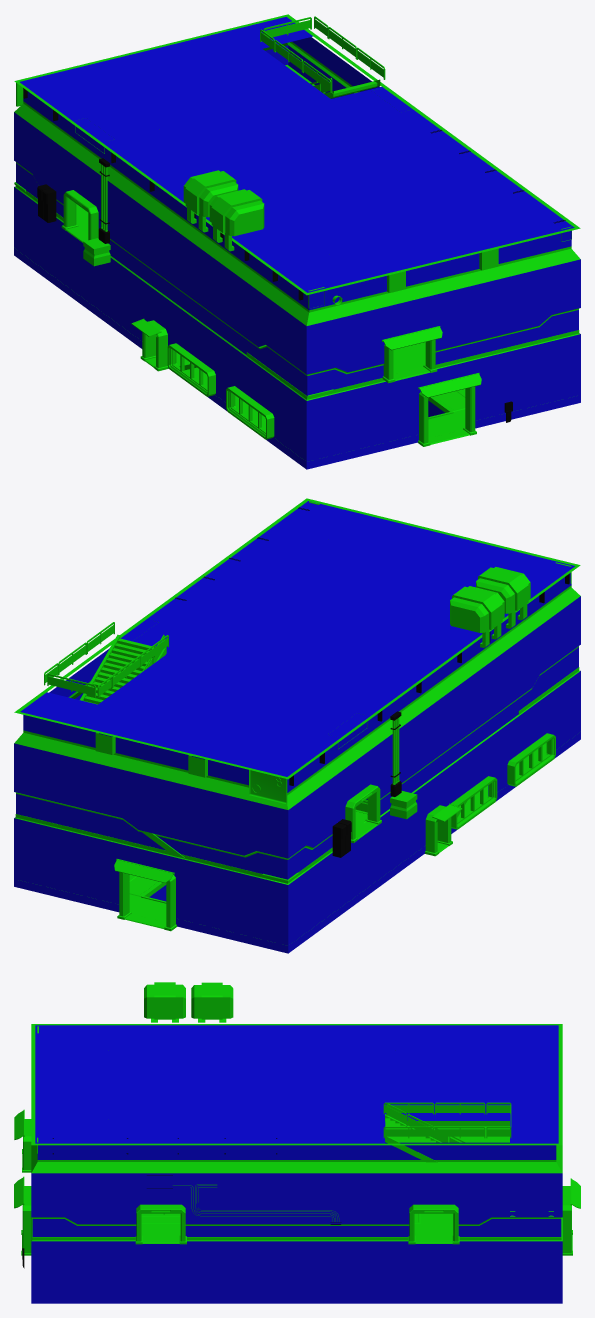
File: BP_Kestrel_Military_08_Mat.FBX
The picture shows the model from 3 angles, top to bottom: view 1: azimuth 30°, elevation 25°; view 2: azimuth 150°, elevation 25°; view 3: azimuth 270°, elevation 25°; orthographic projection. The views are drawn at different scales.
Parts seen in each view (by area): view 1: BP_Kestrel_Military_08_Mat; view 2: BP_Kestrel_Military_08_Mat; view 3: BP_Kestrel_Military_08_Mat.
Boxes of the visible parts, x1=… form: BP_Kestrel_Military_08_Mat: x1=14, y1=14, x2=580, y2=469; BP_Kestrel_Military_08_Mat: x1=14, y1=498, x2=580, y2=953; BP_Kestrel_Military_08_Mat: x1=14, y1=982, x2=580, y2=1303.
Size of the model in its own units: 2682 by 4670 by 2073.
